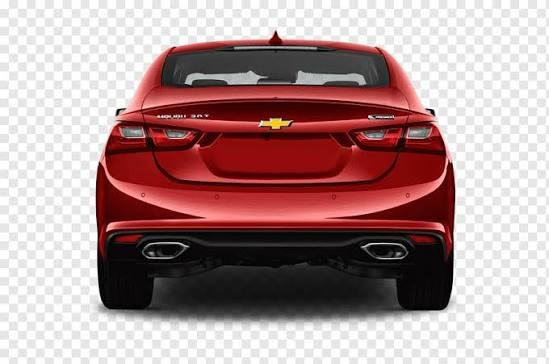car: (93, 29, 455, 325)
